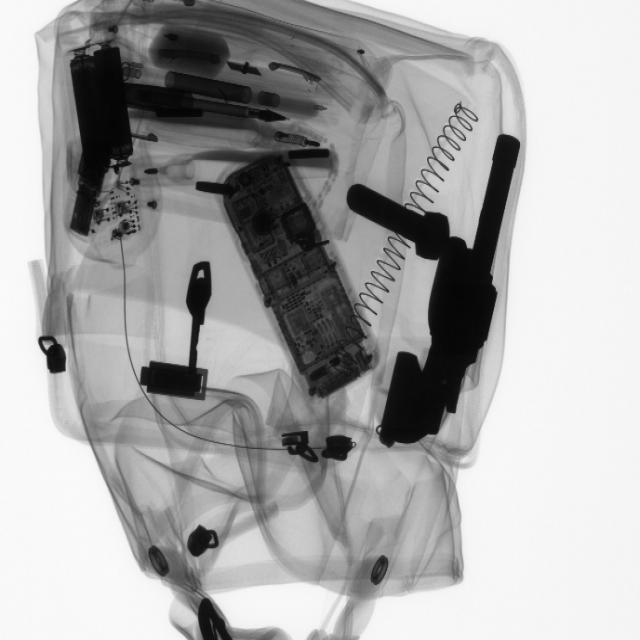GUN: (394, 128, 525, 448)
